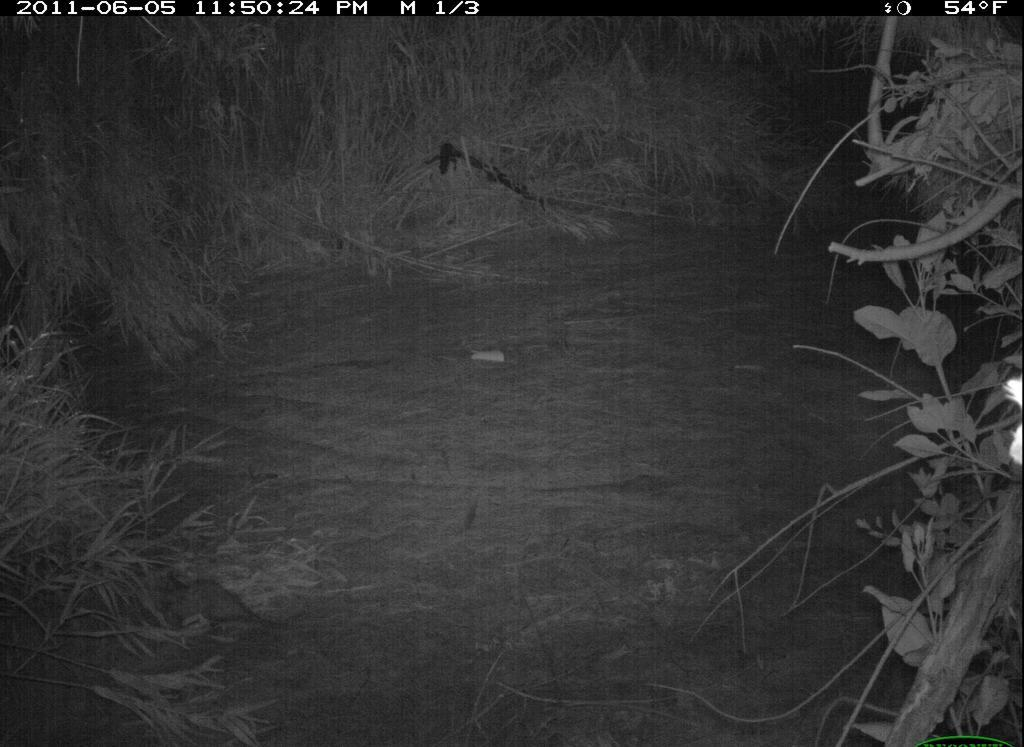opossum: (155, 566, 295, 642)
